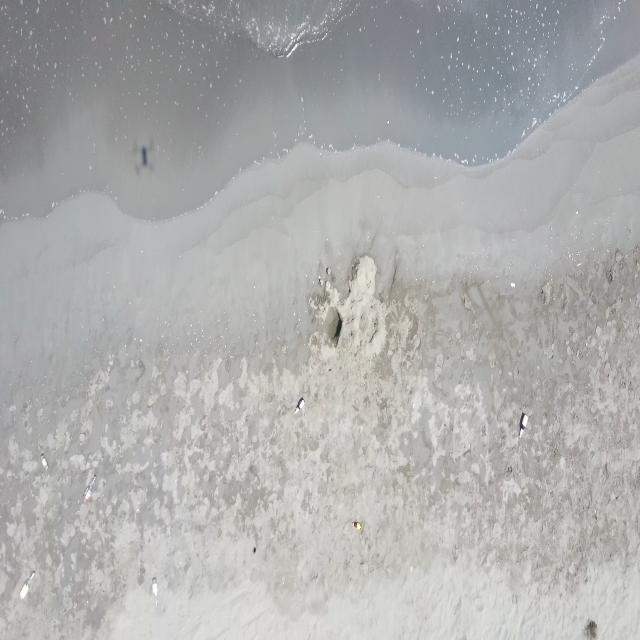glass: (83, 474, 97, 502), (21, 571, 35, 599), (518, 414, 528, 438), (151, 576, 158, 610), (295, 398, 305, 413), (41, 454, 49, 470), (352, 521, 362, 531)
